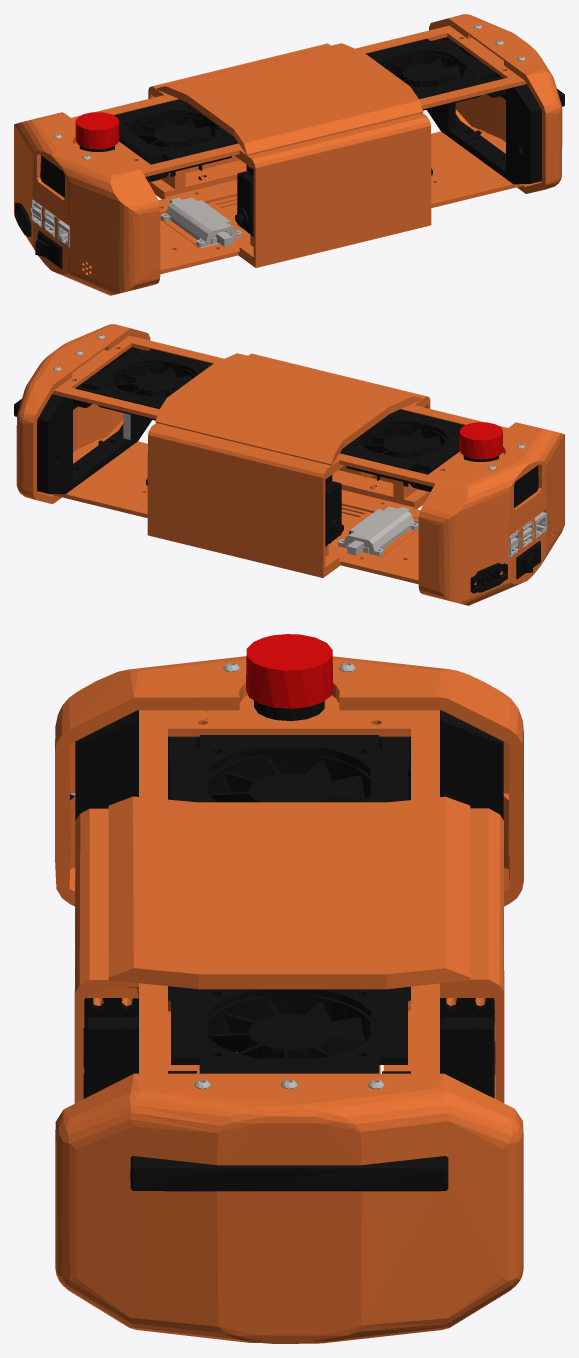
3 views of the same model, one above another, from view 1: azimuth 30°, elevation 25°; view 2: azimuth 150°, elevation 25°; view 3: azimuth 270°, elevation 25° (orthographic). The views are drawn at different scales.
Visible parts, largest first — view 1: base_link; view 2: base_link; view 3: base_link.
Boxes of the visible parts, left/top/right/bottom form: base_link: left=14, top=14, right=564, bottom=295; base_link: left=14, top=324, right=564, bottom=605; base_link: left=55, top=634, right=523, bottom=1343.
Bounding box in the file's own units: 0.3873 × 0.162 × 0.1162.
